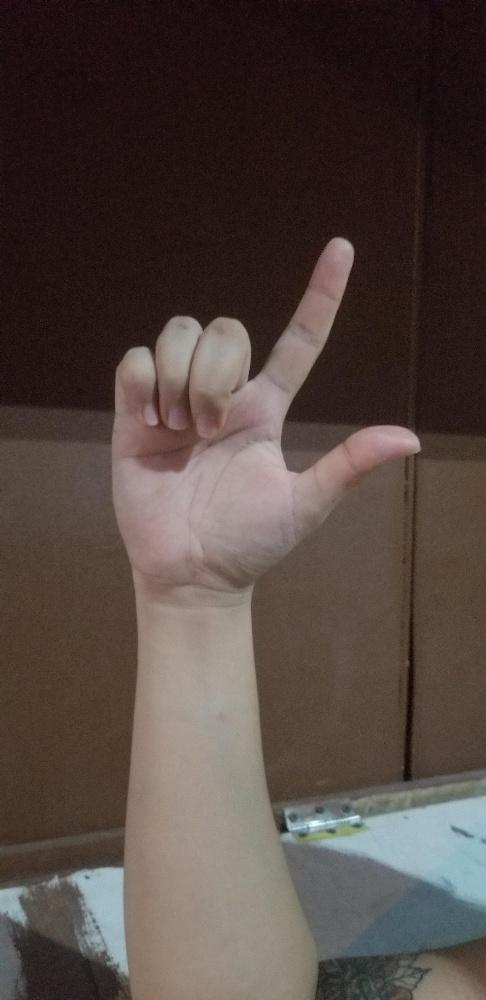l: (112, 238, 420, 588)
